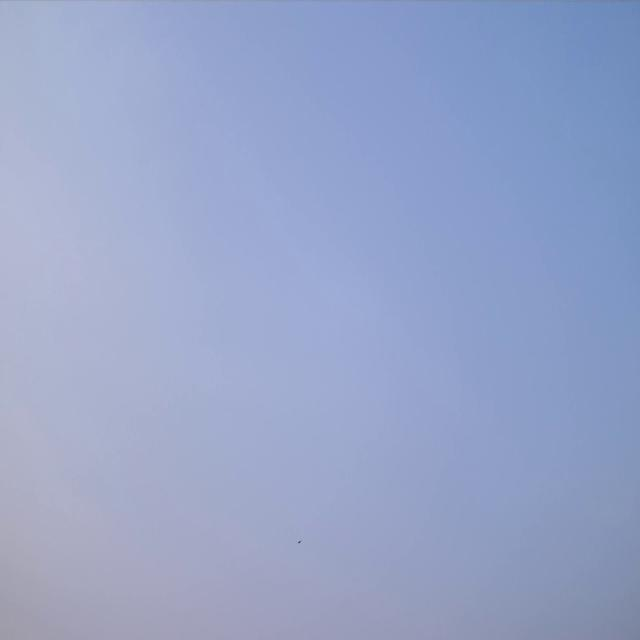UAV: (297, 539, 302, 543)
